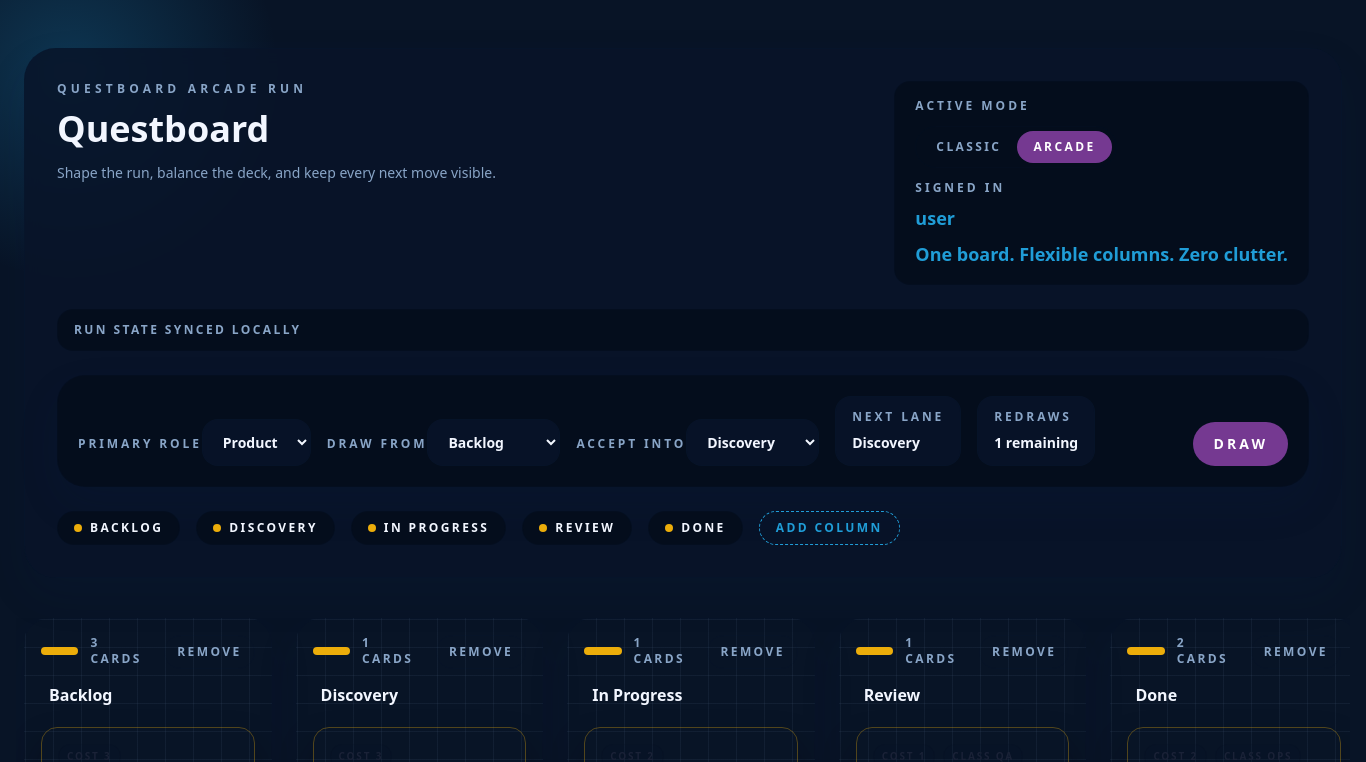
KanbanBoard › supports a single redraw and excludes blocked cards
Step 1. Click the button "Draw" → (1241, 444), box [1193,422,1288,466]
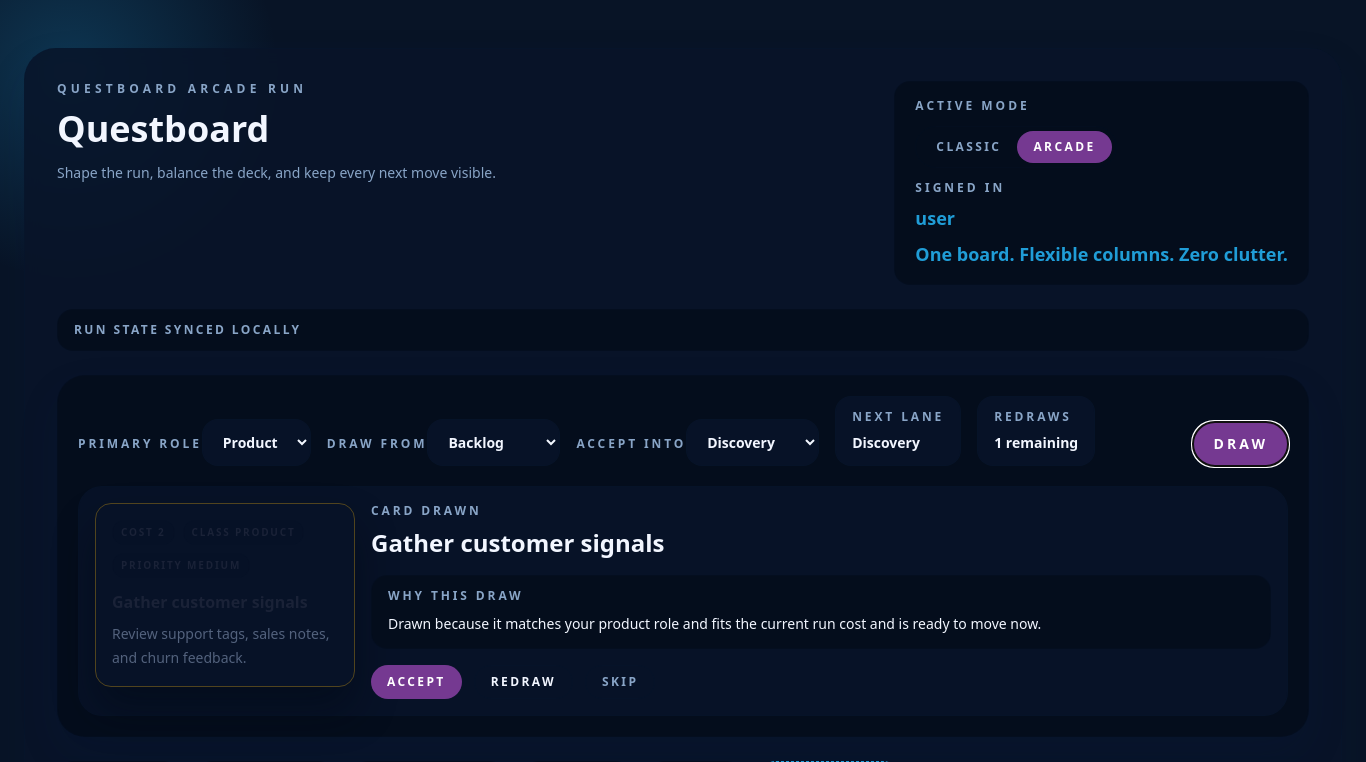
Check: the text "matches your product role" is shown, box [388,614,1041,633]
Step 2. Click the button "Redraw" → (523, 682), box [474,665,573,699]
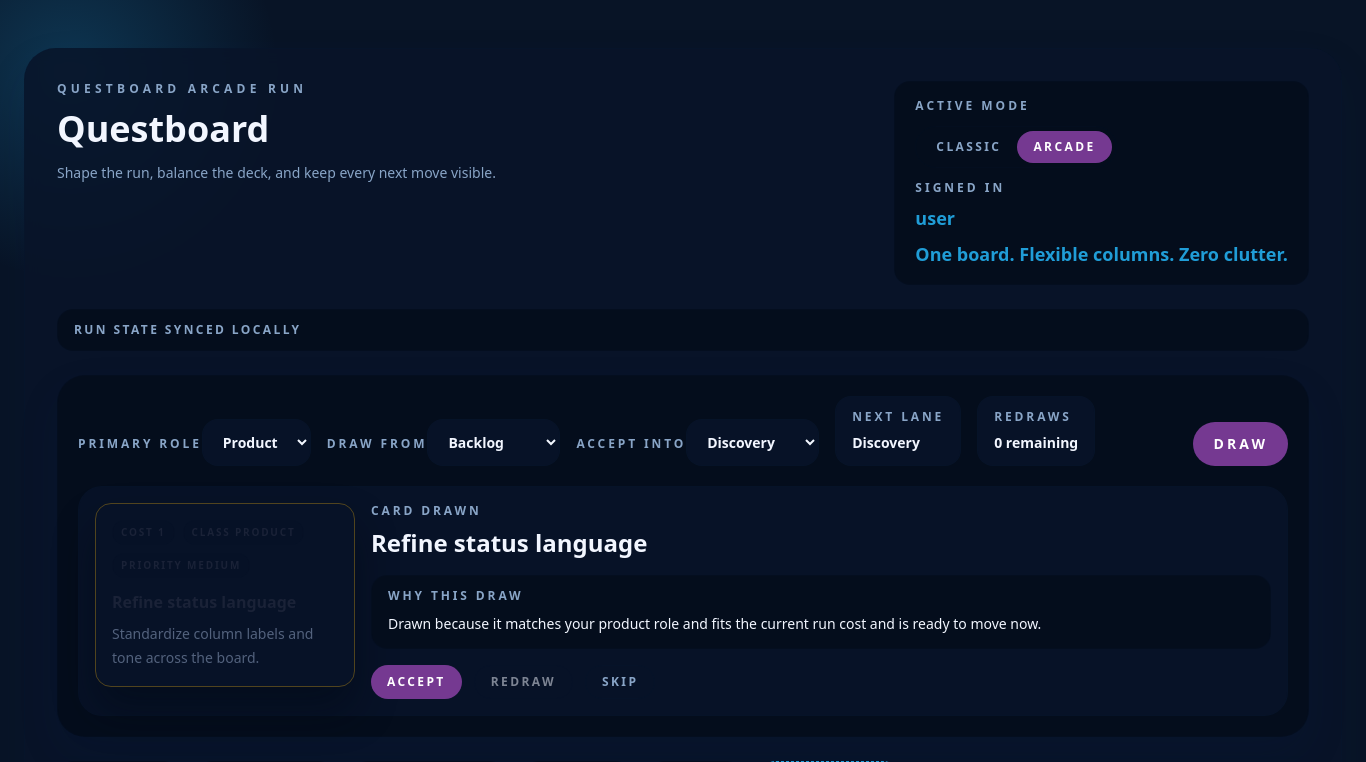
Check: the text "0 remaining" is shown, box [994,433,1078,453]
Check: the button "Redraw" is disabled, box [474,665,573,699]
